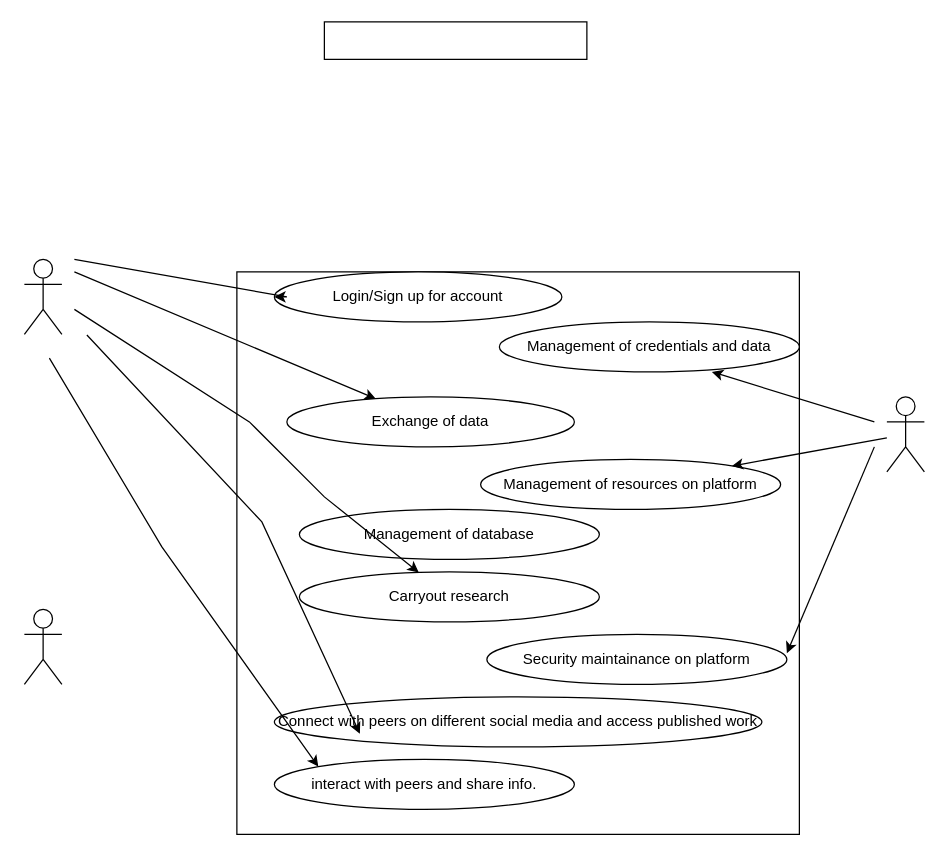
Image size: 949x856. Some labels were removed from this diagram. Here are the shapes that lost their labels. From the top down, the box of each, then its label:
(323, 21, 587, 59): CAPACITY EXCHANGE
(23, 258, 62, 334): Peer 1
(886, 396, 924, 472): Admin
(23, 608, 62, 684): Peer 2
